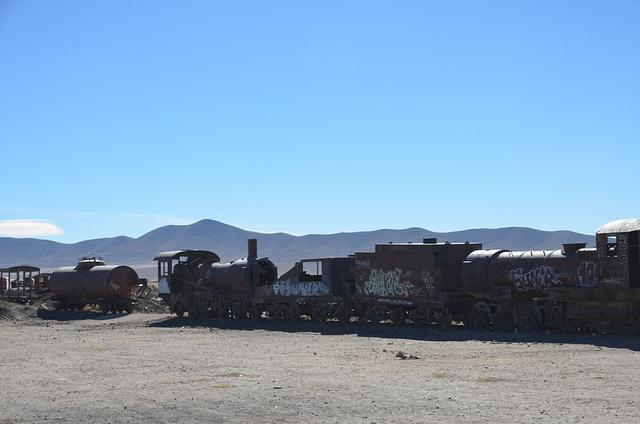Train: (148, 218, 640, 339), (50, 252, 150, 315)
